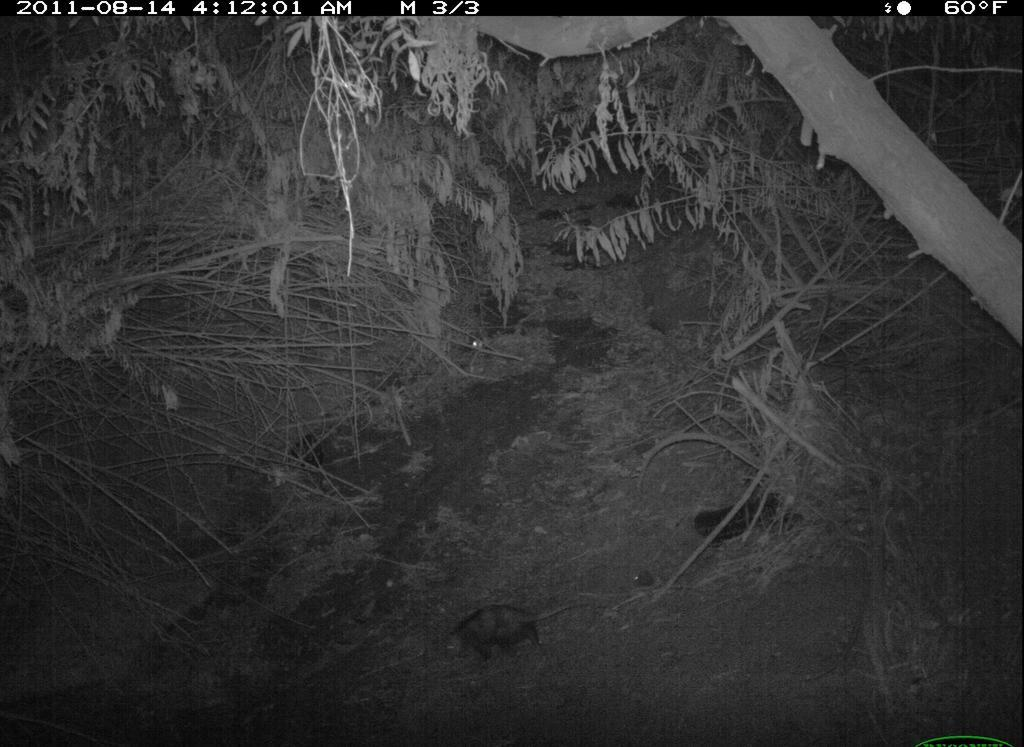opossum: (428, 583, 578, 674)
